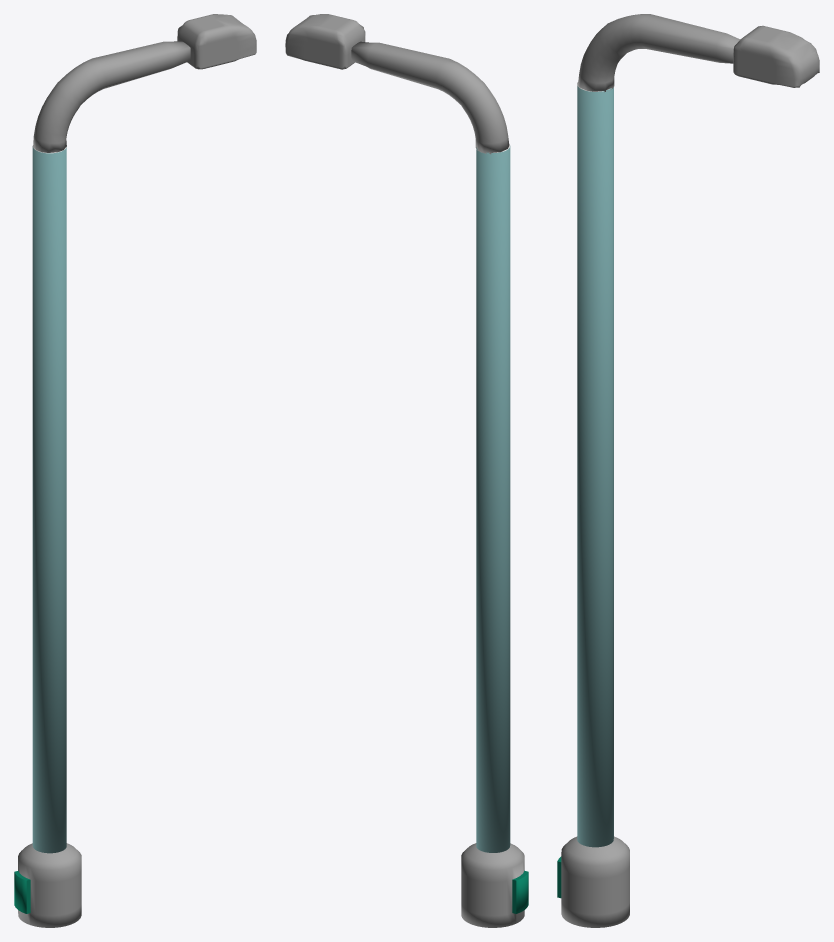
Rendered from lightPost.glb.
3 renders of one model, left to right at view 1: azimuth 30°, elevation 25°; view 2: azimuth 150°, elevation 25°; view 3: azimuth 330°, elevation 25°, orthographic. The views are drawn at different scales.
Parts seen in each view (by area): view 1: Cube; view 2: Cube; view 3: Cube.
Part boxes in pixels (bbox=[...]): Cube: bbox=[14, 14, 256, 927]; Cube: bbox=[285, 14, 528, 927]; Cube: bbox=[557, 14, 819, 927].
Size of the model in its own units: 1.79 by 6.31 by 0.4271.
